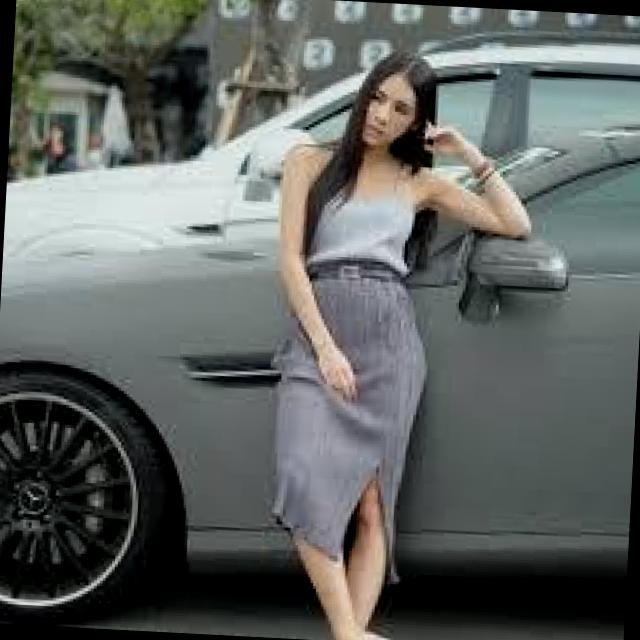skirt: (238, 261, 456, 587)
